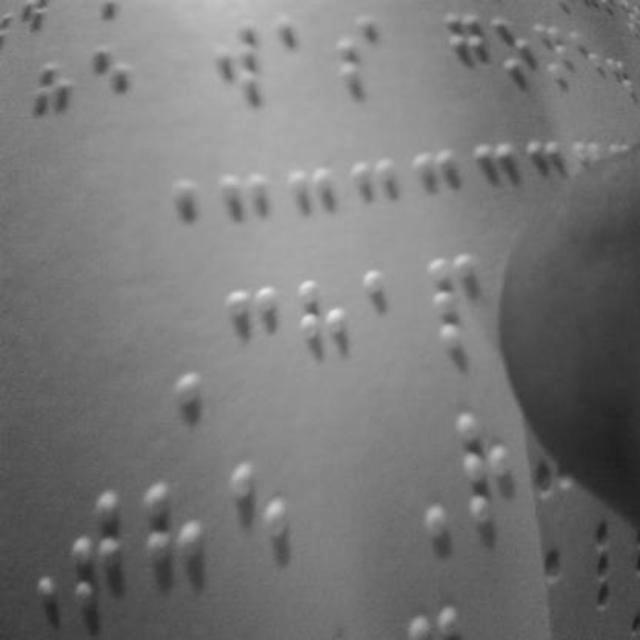braiile: (143, 480, 219, 630), (65, 484, 138, 640), (228, 463, 300, 612), (455, 404, 521, 542), (424, 250, 492, 382), (354, 262, 416, 390), (219, 279, 285, 397), (293, 274, 351, 394), (21, 55, 81, 167), (204, 10, 262, 122), (84, 42, 138, 154), (328, 4, 384, 108), (268, 9, 314, 116), (444, 12, 488, 98)
